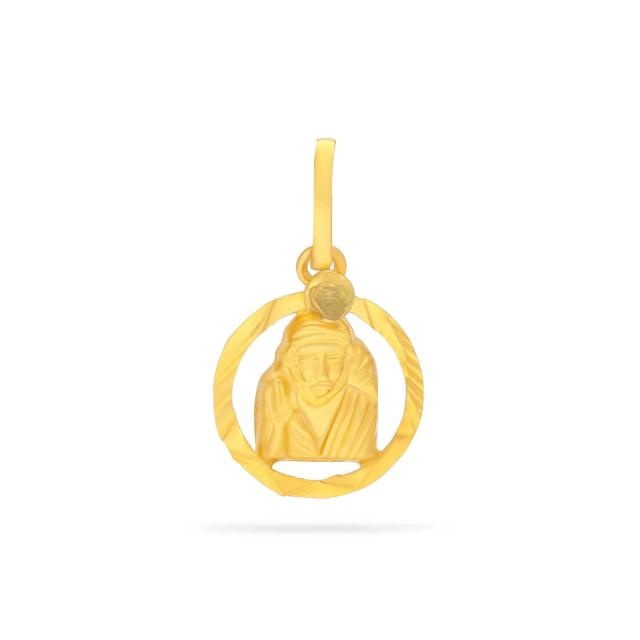missing gem: (305, 270, 355, 322)
